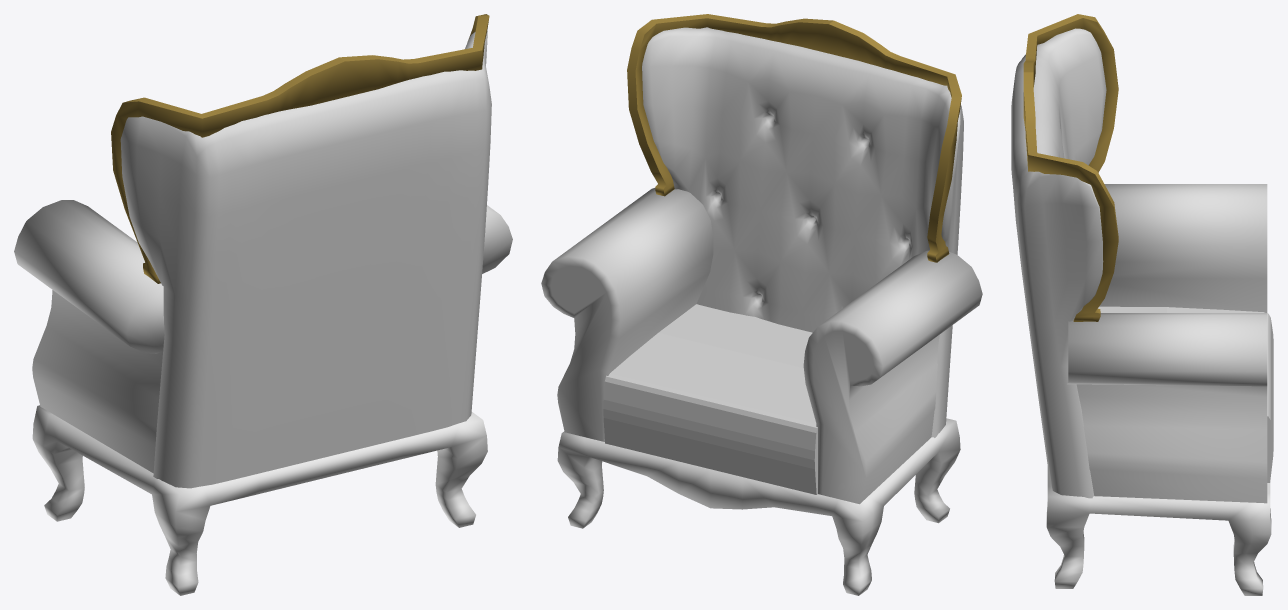
Rendered from L2_LR_SoloSofa.fbx.
3 renders of one model, left to right at view 1: azimuth 30°, elevation 25°; view 2: azimuth 150°, elevation 25°; view 3: azimuth 270°, elevation 25°, orthographic. The views are drawn at different scales.
Parts seen in each view (by area): view 1: L2_LR_SoloSofa; view 2: L2_LR_SoloSofa; view 3: L2_LR_SoloSofa.
Part boxes in pixels (x1,y1,x2,y2): L2_LR_SoloSofa: (14,14,512,595); L2_LR_SoloSofa: (541,14,982,595); L2_LR_SoloSofa: (1011,14,1273,595).
Size of the model in its own units: 0.7915 by 1 by 0.5259.
